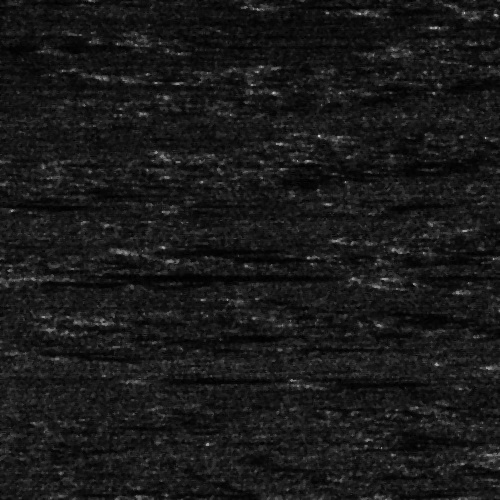object: (17, 267, 100, 282), (108, 375, 161, 382), (287, 377, 318, 386), (482, 289, 500, 296), (482, 361, 500, 366)
shadow: (59, 267, 317, 282), (303, 377, 409, 386), (134, 375, 266, 382)
